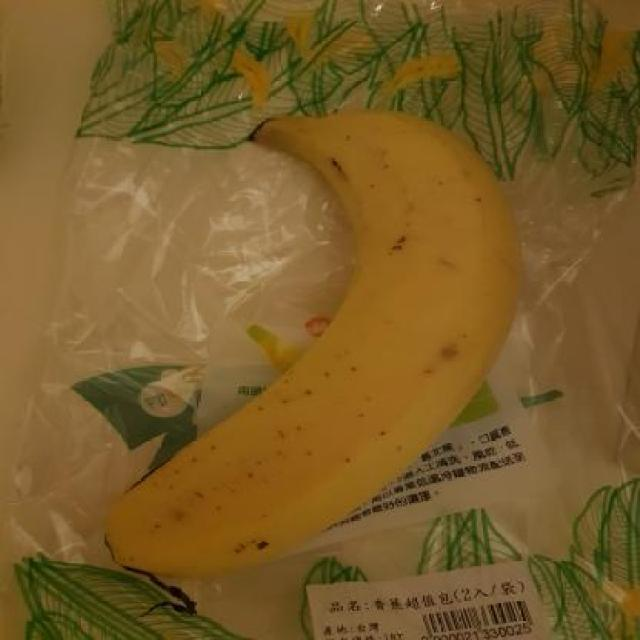Banana: (88, 97, 530, 588)
